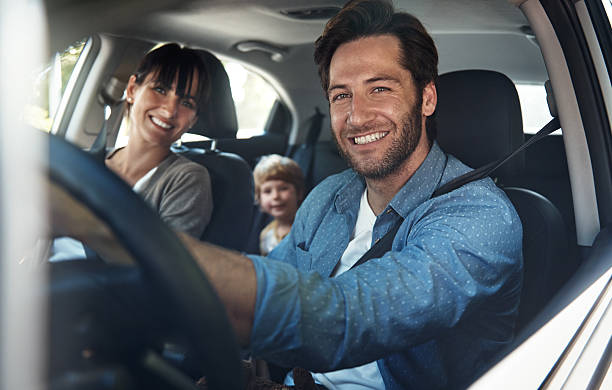without mask: (324, 27, 432, 176), (111, 50, 217, 153), (239, 162, 314, 220)
